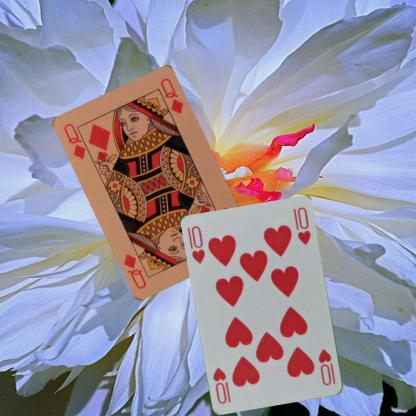10h: (189, 224, 207, 265), (316, 346, 333, 387)
Qd: (61, 121, 94, 162)
